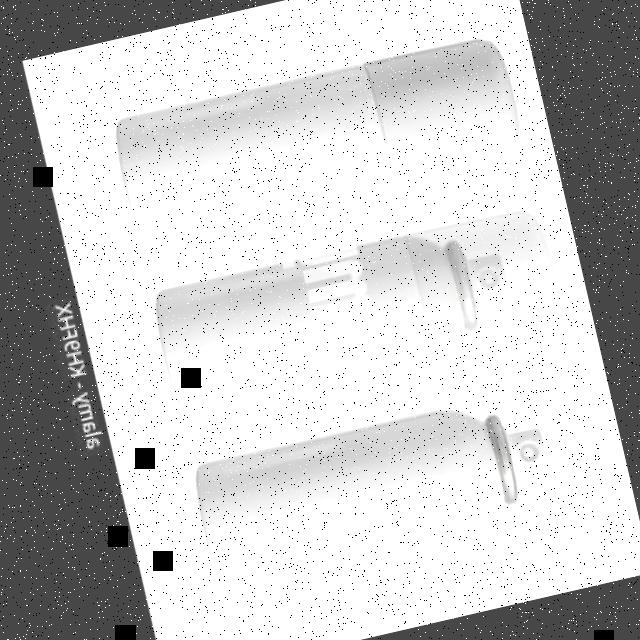chemical_spray_can: (165, 358, 570, 601)
